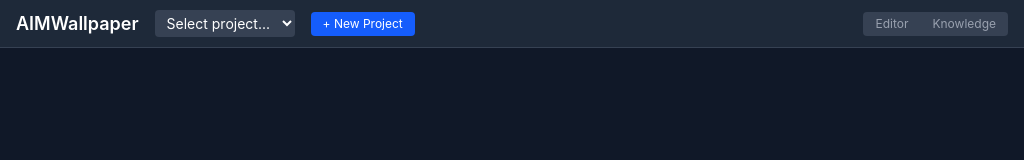
Test: TopNav › shows new project form when clicking + New Project
Click the button "+ New Project" at (363, 24), box [311,12,415,36]
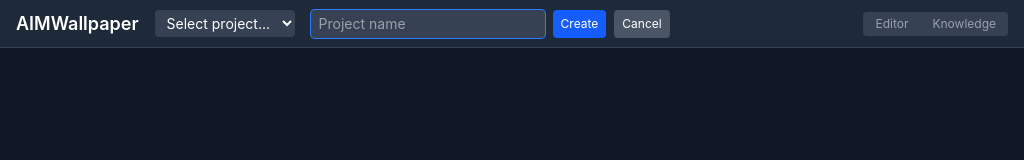
Now the field with placeholder "Project name" is shown, box [311,10,545,38]
